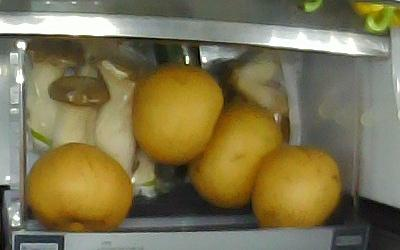pear: (188, 101, 285, 208), (27, 143, 132, 232), (133, 64, 224, 165), (252, 144, 342, 226)
